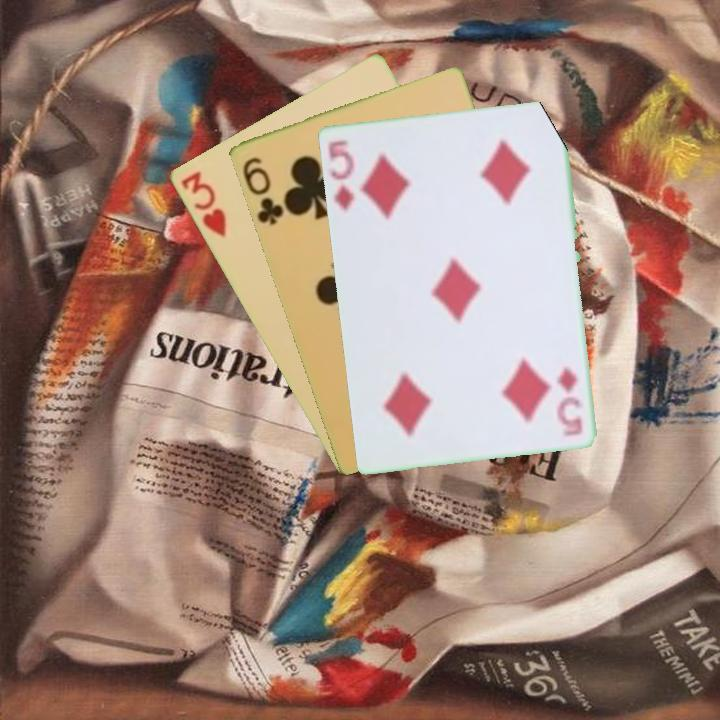3h: (177, 167, 229, 240)
5d: (324, 136, 357, 213), (556, 363, 585, 439)
6c: (238, 153, 286, 228)
